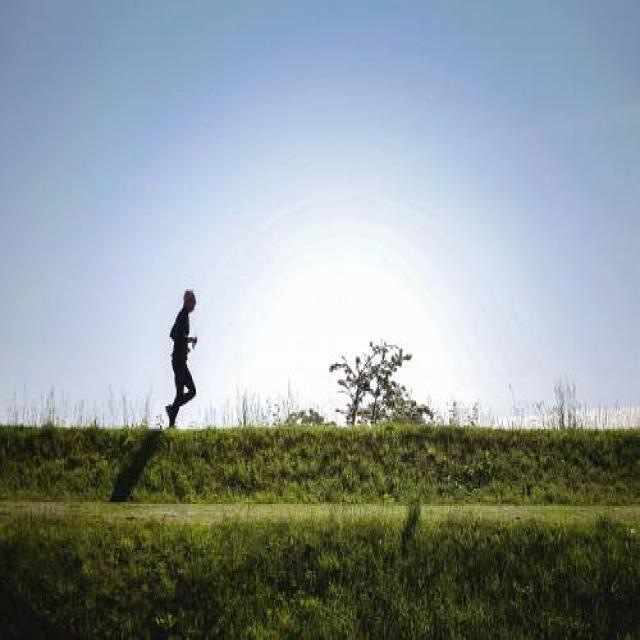running: (162, 286, 201, 428)
